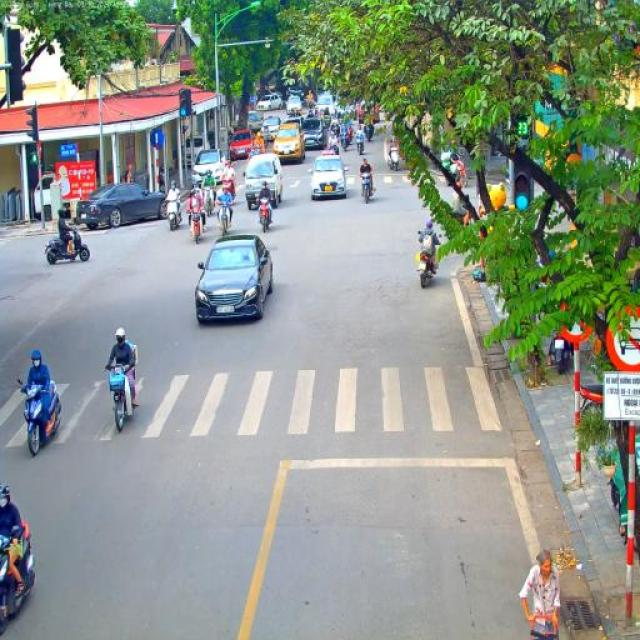car: (193, 233, 275, 326), (76, 182, 176, 228), (308, 154, 349, 200), (190, 148, 226, 192), (272, 122, 306, 164), (300, 116, 326, 152), (228, 129, 254, 162), (260, 116, 282, 144), (256, 95, 282, 114), (315, 90, 334, 115), (285, 95, 303, 116), (286, 87, 304, 99)
motorcycle: (579, 434, 635, 544), (0, 521, 36, 631), (17, 378, 62, 456), (102, 363, 138, 432), (44, 220, 90, 265), (547, 324, 574, 374), (417, 236, 442, 288), (580, 382, 604, 424), (187, 207, 205, 244), (256, 197, 274, 233), (447, 158, 468, 188), (216, 202, 233, 238), (166, 199, 183, 231), (360, 174, 375, 204), (202, 185, 216, 217), (221, 174, 237, 202), (388, 148, 401, 172), (340, 131, 350, 151), (253, 144, 266, 156), (327, 144, 339, 156), (356, 138, 364, 154), (366, 126, 374, 142)
truck: (241, 152, 284, 210), (32, 173, 78, 221), (184, 134, 215, 164), (246, 110, 262, 138)
